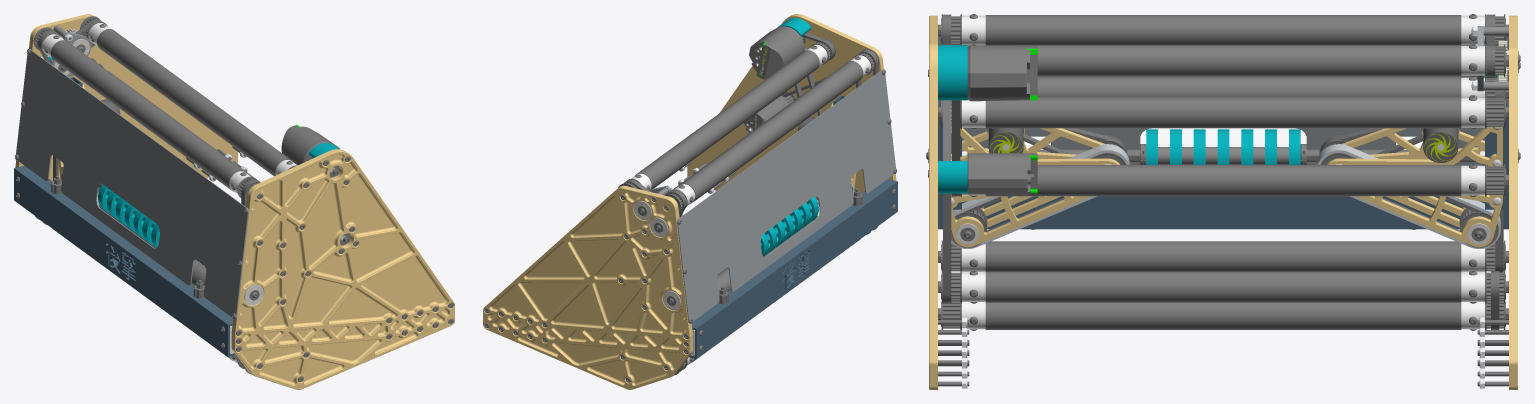
File: Intake (1).glb
The picture shows the model from 3 angles, left to right: view 1: azimuth 30°, elevation 25°; view 2: azimuth 150°, elevation 25°; view 3: azimuth 270°, elevation 25°; orthographic projection. The views are drawn at different scales.
Parts seen in each view (by area): view 1: Part 1, Part 6, Part 29 (×3), Part 7, Part 2, Kraken X60 Brushless Motor, Part 27 (×2); view 2: Part 2, Part 6, Part 29 (×3), Part 7, Part 1, Kraken X60 Brushless Motor, Part 27 (×2), Kraken X44 Brushless Motor; view 3: Part 29 (×8), Part 7, Part 27 (×7), Part 20 (×2), Part 19 (×2), Kraken X60 Brushless Motor, Part 6, Part 1, Part 2, 90T 5M 15mm Wide Belt (×2), Kraken X44 Brushless Motor, 3DP Motor Spacer (×2) (+9 smaller).
Boxes of the visible parts, x1,y1,x2,y2 form: Part 1: [231, 149, 454, 389]; Part 6: [16, 49, 248, 318]; Part 29 (×3): [50, 29, 293, 285]; Part 7: [14, 165, 235, 356]; Part 2: [15, 14, 237, 180]; Kraken X60 Brushless Motor: [281, 125, 339, 172]; Part 27 (×2): [42, 23, 296, 193]; Part 2: [483, 185, 692, 389]; Part 6: [677, 69, 895, 323]; Part 29 (×3): [635, 50, 863, 291]; Part 7: [689, 179, 897, 358]; Part 1: [687, 14, 896, 193]; Kraken X60 Brushless Motor: [749, 26, 804, 79]; Part 27 (×2): [631, 44, 871, 205]; Kraken X44 Brushless Motor: [743, 96, 788, 132]; Part 29 (×8): [985, 15, 1461, 329]; Part 7: [938, 196, 1508, 229]; Part 27 (×7): [962, 15, 1484, 329]; Part 20 (×2): [951, 127, 1502, 247]; Part 19 (×2): [962, 128, 1484, 227]; Kraken X60 Brushless Motor: [967, 45, 1037, 101]; Part 6: [938, 36, 1508, 165]; Part 1: [929, 15, 937, 389]; Part 2: [1509, 15, 1517, 389]; 90T 5M 15mm Wide Belt (×2): [951, 144, 1500, 248]; Kraken X44 Brushless Motor: [967, 153, 1037, 194]; 3DP Motor Spacer (×2): [938, 45, 967, 193].
Size of the model in its own units: 0.3709 by 0.3628 by 0.6346.
